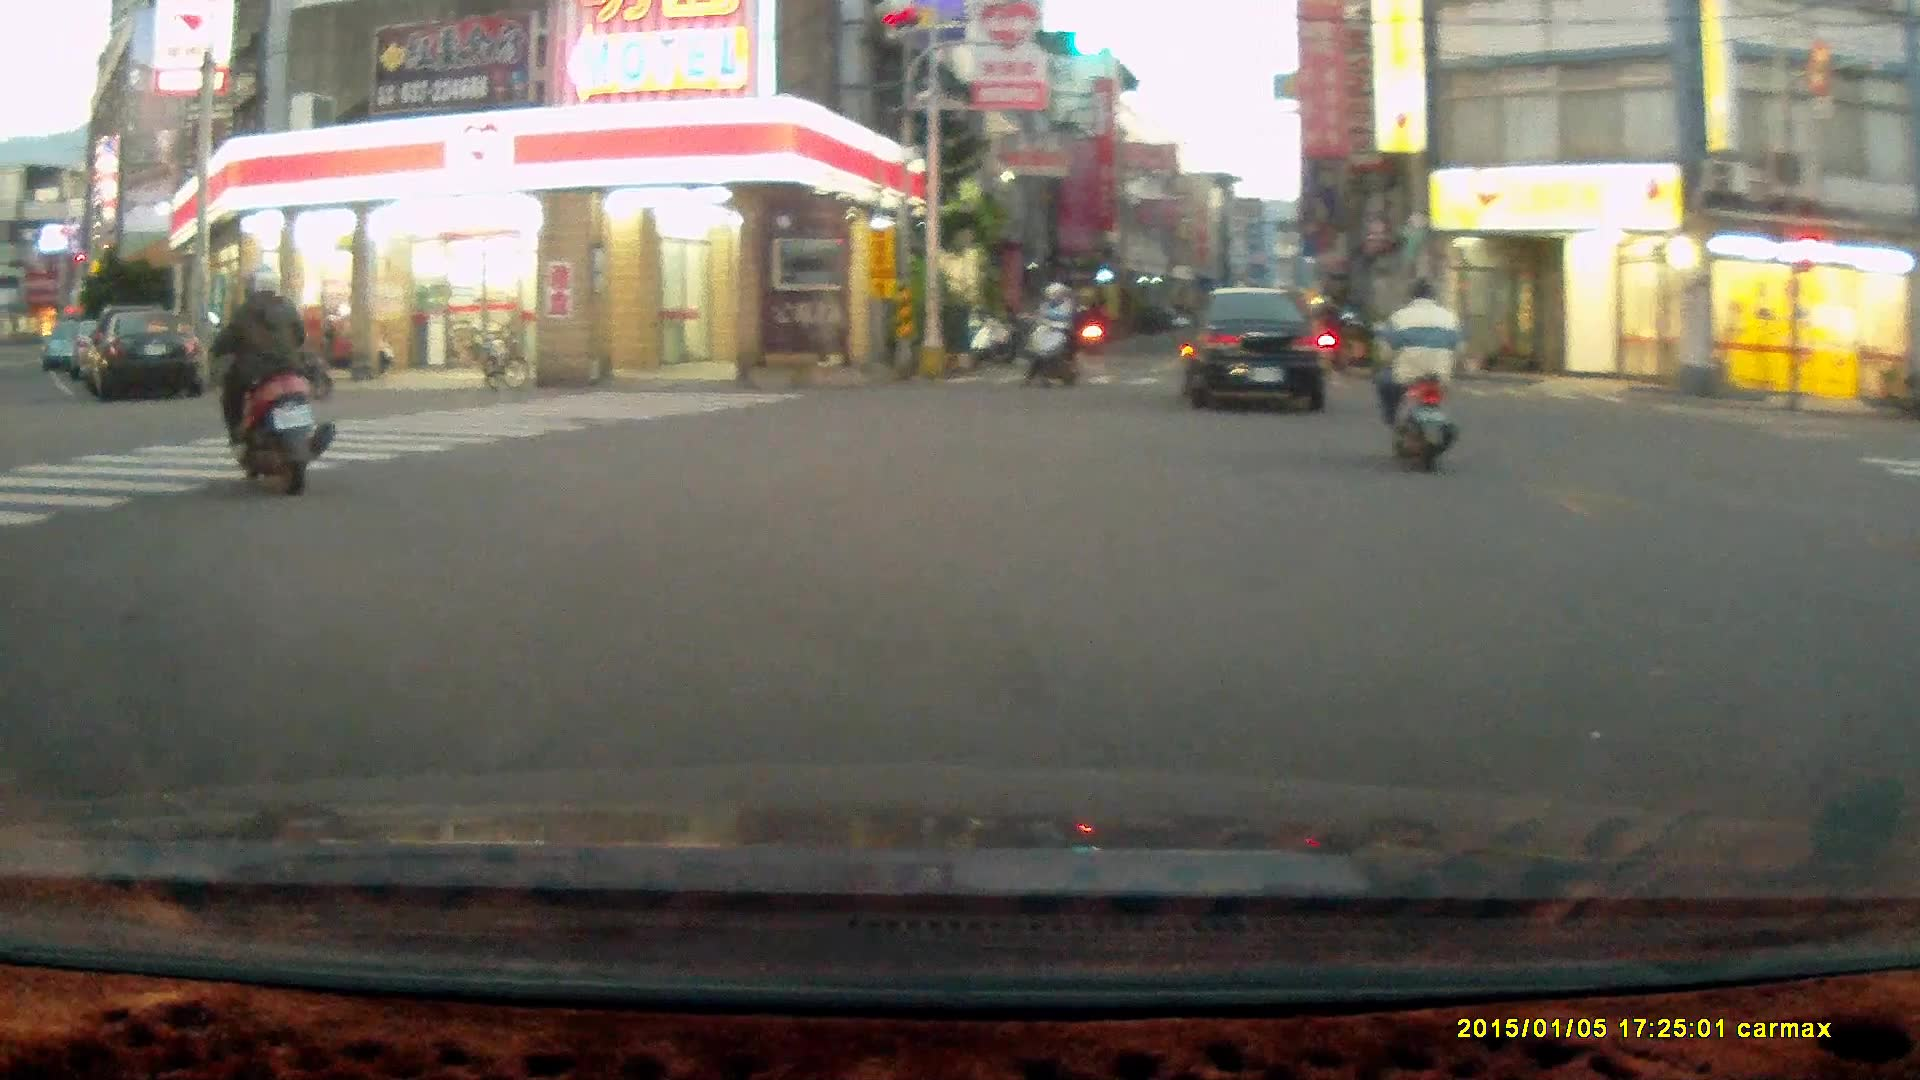rider: (205, 265, 335, 496), (1375, 276, 1467, 475), (1024, 280, 1083, 389)
vehicle: (1183, 285, 1333, 418), (96, 308, 216, 401)
